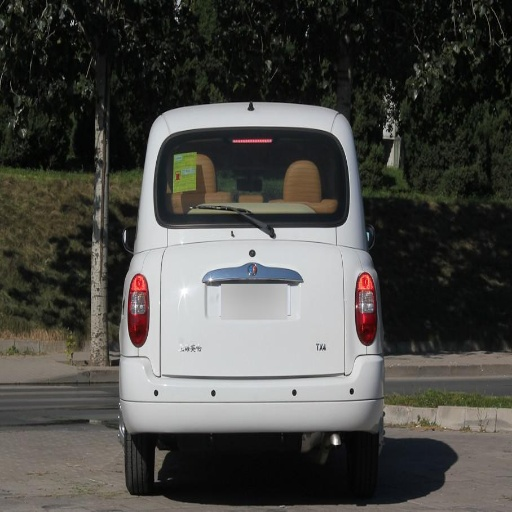back_bumper: (120, 343, 392, 437)
trunk: (129, 228, 361, 374)
